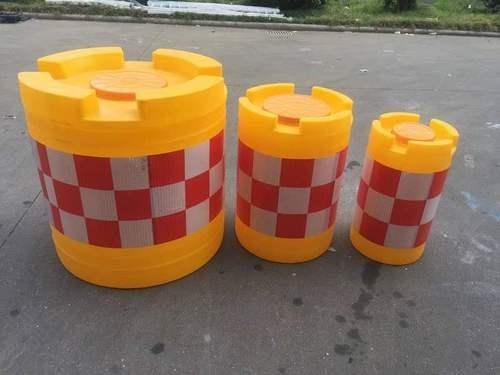sign: (23, 44, 231, 288), (233, 75, 354, 264), (359, 102, 459, 267)
